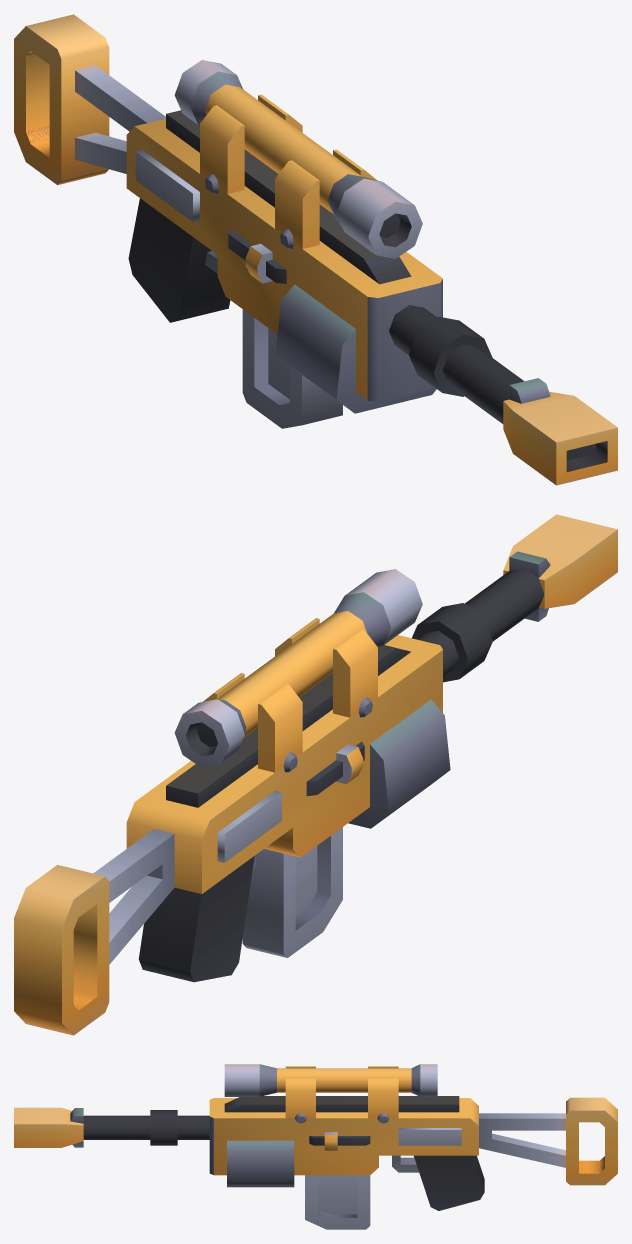
3 views of the same model, one above another, from view 1: azimuth 30°, elevation 25°; view 2: azimuth 150°, elevation 25°; view 3: azimuth 270°, elevation 25° (orthographic). The views are drawn at different scales.
Visible parts, largest first — view 1: blaster-e; view 2: blaster-e; view 3: blaster-e.
Boxes of the visible parts, x1=… form: blaster-e: x1=14, y1=14, x2=617, y2=485; blaster-e: x1=14, y1=514, x2=617, y2=1035; blaster-e: x1=14, y1=1064, x2=617, y2=1229.
Bounding box in the file's own units: 0.1221 × 0.2972 × 1.02.
1 material, 1 textured.
